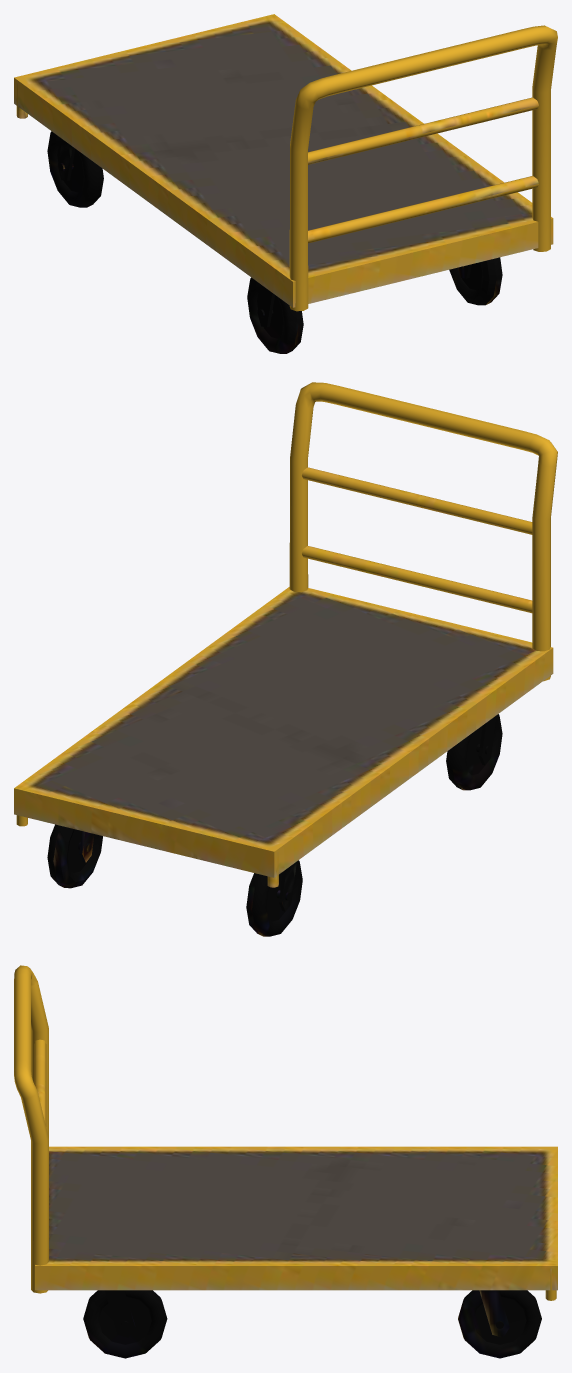
3 renders of one model, top to bottom at view 1: azimuth 30°, elevation 25°; view 2: azimuth 150°, elevation 25°; view 3: azimuth 270°, elevation 25°, orthographic. The views are drawn at different scales.
Visible parts, largest first — view 1: pCube3, polySurface5, 对象001, 对象002, polySurface21; view 2: pCube3, polySurface5, 对象002, 对象001, polySurface21; view 3: pCube3, polySurface5, 对象001, 对象002, polySurface21.
Boxes of the visible parts, box(x1,y1,x2,y2) form: pCube3: box(14, 14, 553, 307); polySurface5: box(16, 25, 557, 311); 对象001: box(247, 257, 502, 353); 对象002: box(47, 131, 103, 207); polySurface21: box(57, 139, 471, 327); pCube3: box(14, 587, 553, 877); polySurface5: box(16, 382, 557, 887); 对象002: box(47, 824, 302, 936); 对象001: box(446, 714, 502, 790); polySurface21: box(78, 715, 496, 911); pCube3: box(35, 1146, 557, 1290); polySurface5: box(14, 965, 556, 1300); 对象001: box(83, 1290, 167, 1358); 对象002: box(458, 1290, 541, 1358); polySurface21: box(104, 1290, 509, 1337).
Bounding box in the file's own units: 142 × 163 × 274.
